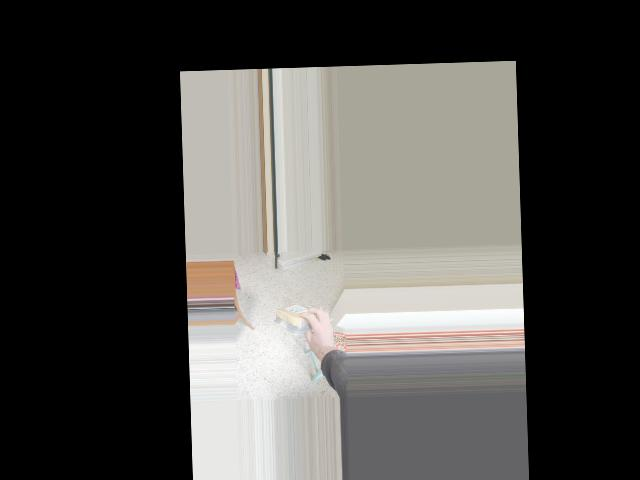cheese: (272, 301, 326, 335)
